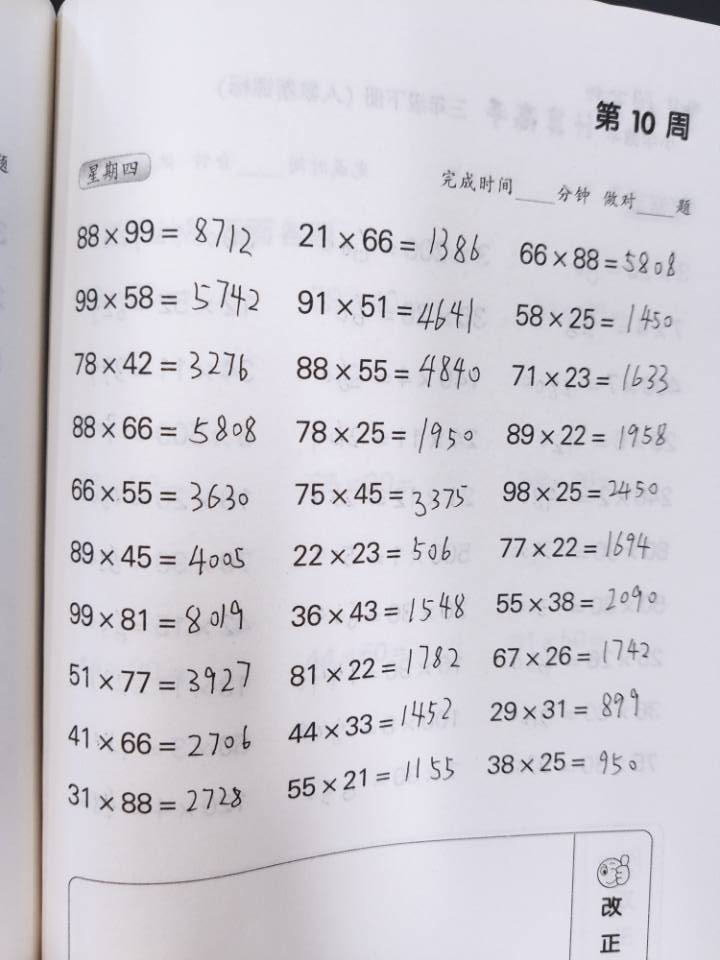equation: (142, 597, 200, 872), (205, 588, 254, 873), (248, 611, 292, 880), (298, 601, 340, 865), (164, 312, 202, 584), (536, 616, 574, 876), (352, 333, 387, 576), (262, 52, 297, 295), (221, 53, 256, 296), (263, 320, 298, 563), (566, 337, 601, 580), (521, 341, 556, 584), (491, 628, 526, 871), (446, 625, 481, 868), (580, 629, 615, 872), (393, 71, 428, 313), (351, 75, 386, 317), (557, 83, 592, 325), (442, 337, 476, 580), (432, 68, 466, 311), (310, 60, 344, 303), (176, 41, 210, 284), (310, 325, 344, 568), (215, 325, 249, 568), (512, 92, 546, 335), (474, 84, 508, 327), (482, 345, 516, 588), (354, 627, 388, 869), (398, 347, 432, 589), (397, 627, 431, 869)
